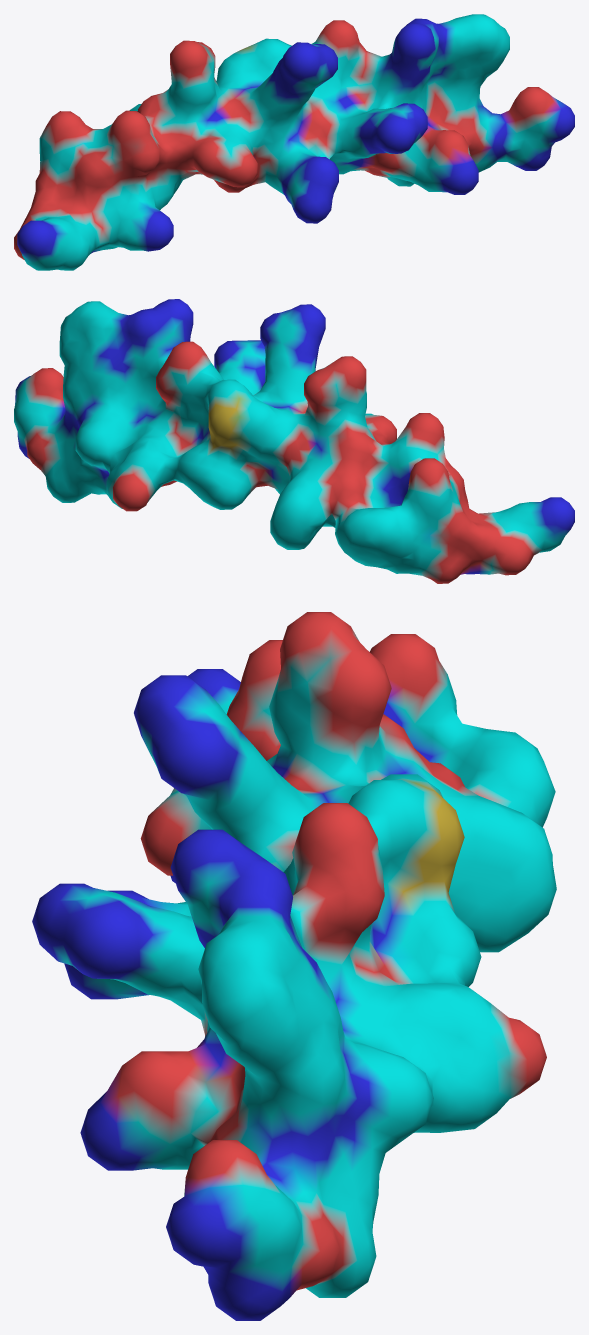
The model's file is ligand_surface.dae.
3 views of the same model, one above another, from view 1: azimuth 30°, elevation 25°; view 2: azimuth 150°, elevation 25°; view 3: azimuth 270°, elevation 25° (orthographic). The views are drawn at different scales.
Parts seen in each view (by area): view 1: node-geom0; view 2: node-geom0; view 3: node-geom0.
Part boxes in pixels (<box>): node-geom0: <box>14,14,574,270</box>; node-geom0: <box>14,299,574,583</box>; node-geom0: <box>32,612,556,1320</box>.
Size of the model in its own units: 49.6 by 18.31 by 20.37.
